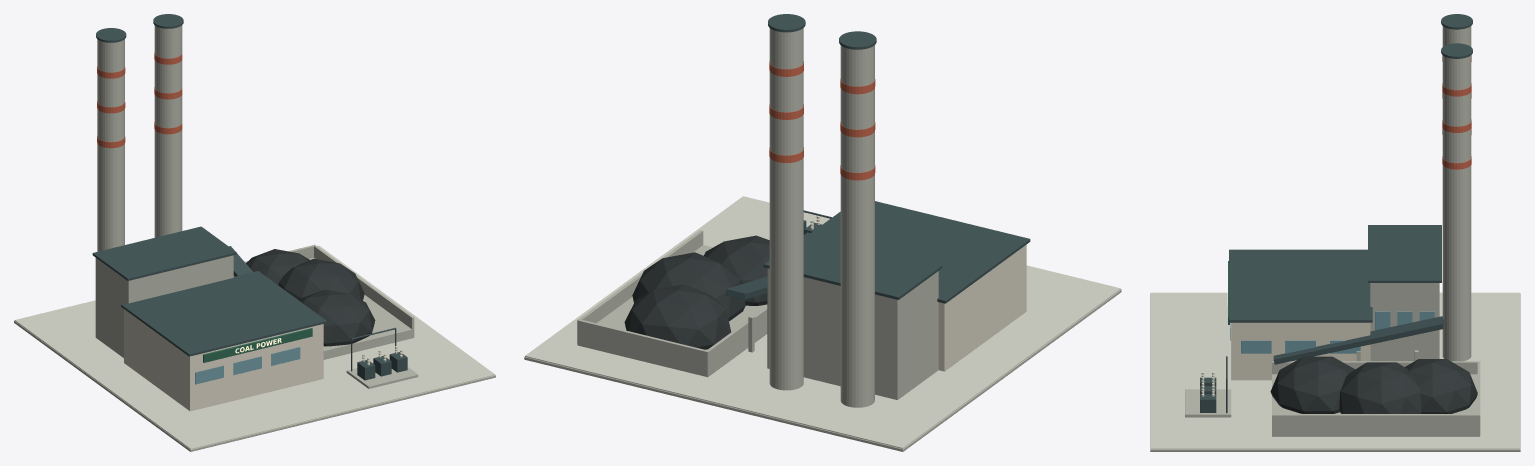
File: power-coal.glb
3 views of the same model, side by side, from view 1: azimuth 30°, elevation 25°; view 2: azimuth 150°, elevation 25°; view 3: azimuth 270°, elevation 25° (orthographic). The views are drawn at different scales.
Parts seen in each view (by area): view 1: Ground, TurbineHallRoof, TurbineHall, Stack.001, Stack, BoilerHouse, BoilerHouseRoof, CoalHeap, CoalHeap.001, CoalBunker, Lot, CoalHeap.002 (+3 smaller); view 2: Ground, Stack, Stack.001, BoilerHouse, TurbineHallRoof, TurbineHall, CoalHeap.002, BoilerHouseRoof, CoalRetainingWall.002, CoalHeap.001, Lot, CoalHeap (+6 smaller); view 3: Ground, TurbineHallRoof, Stack.001, CoalRetainingWall.001, TurbineHall, BoilerHouseRoof, BoilerHouse, CoalHeap.001, CoalHeap, CoalHeap.002, Conveyor, Lot (+7 smaller).
Part boxes in pixels (left/top/right/bottom): Ground: left=14, top=245, right=495, bottom=449; TurbineHallRoof: left=121, top=271, right=326, bottom=356; TurbineHall: left=124, top=309, right=323, bottom=411; Stack.001: left=154, top=25, right=182, bottom=237; Stack: left=97, top=39, right=124, bottom=251; BoilerHouse: left=95, top=255, right=233, bottom=357; BoilerHouseRoof: left=92, top=226, right=236, bottom=280; CoalHeap: left=299, top=289, right=375, bottom=346; CoalHeap.001: left=278, top=258, right=364, bottom=300; CoalBunker: left=309, top=258, right=414, bottom=359; Lot: left=14, top=321, right=495, bottom=451; CoalHeap.002: left=246, top=249, right=309, bottom=284; Ground: left=525, top=196, right=1120, bottom=448; Stack: left=840, top=45, right=874, bottom=407; Stack.001: left=769, top=28, right=803, bottom=390; BoilerHouse: left=767, top=268, right=938, bottom=399; TurbineHallRoof: left=811, top=201, right=1030, bottom=303; TurbineHall: left=938, top=244, right=1026, bottom=371; CoalHeap.002: left=624, top=284, right=730, bottom=349; BoilerHouseRoof: left=763, top=232, right=942, bottom=299; CoalRetainingWall.002: left=577, top=319, right=708, bottom=376; CoalHeap.001: left=632, top=252, right=745, bottom=321; Lot: left=524, top=289, right=1121, bottom=451; CoalHeap: left=704, top=235, right=769, bottom=305; Ground: left=1151, top=292, right=1519, bottom=449; TurbineHallRoof: left=1229, top=249, right=1372, bottom=322; Stack.001: left=1442, top=55, right=1471, bottom=361; CoalRetainingWall.001: left=1272, top=414, right=1480, bottom=435; TurbineHall: left=1231, top=322, right=1370, bottom=380; BoilerHouseRoof: left=1368, top=225, right=1441, bottom=282; BoilerHouse: left=1370, top=283, right=1439, bottom=361; CoalHeap.001: left=1339, top=362, right=1421, bottom=413; CoalHeap: left=1270, top=356, right=1354, bottom=413; CoalHeap.002: left=1405, top=359, right=1477, bottom=413; Conveyor: left=1273, top=316, right=1443, bottom=364; Lot: left=1150, top=293, right=1520, bottom=451.
Bounding box in the file's own units: 32 × 31.3 × 32.
